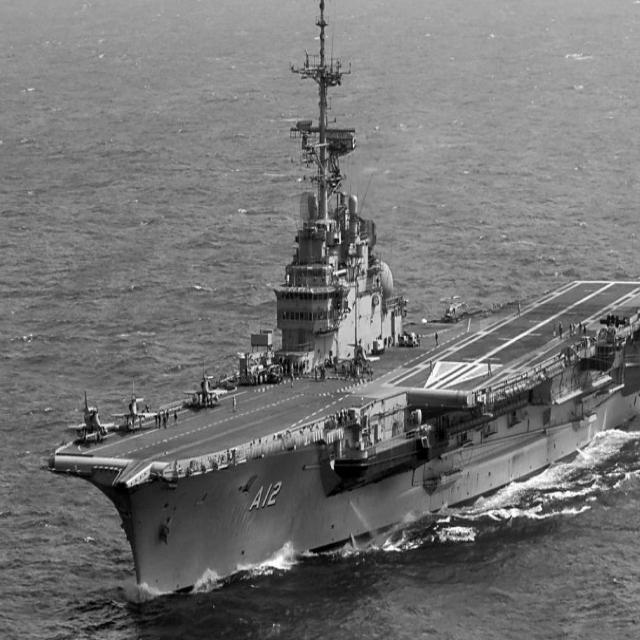Portanaves: (41, 1, 640, 611)
